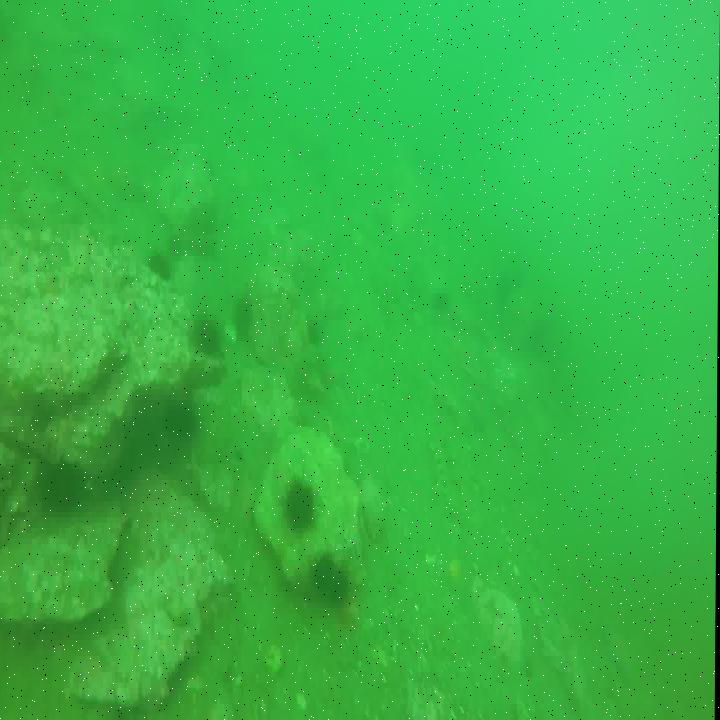echinus: (281, 479, 318, 533), (34, 464, 63, 518), (193, 321, 223, 372), (314, 550, 340, 596), (174, 392, 193, 441), (147, 248, 171, 284), (331, 568, 352, 606), (237, 297, 255, 340)
holothurian: (433, 422, 473, 522)
